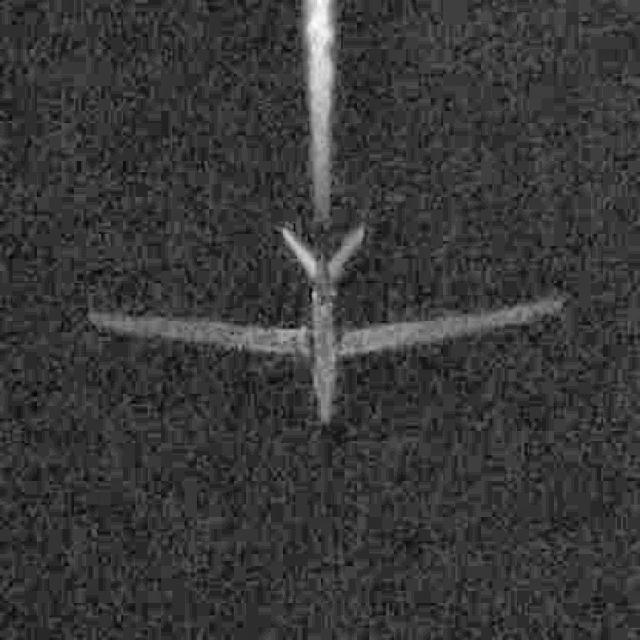RQ4: (87, 222, 565, 422)
